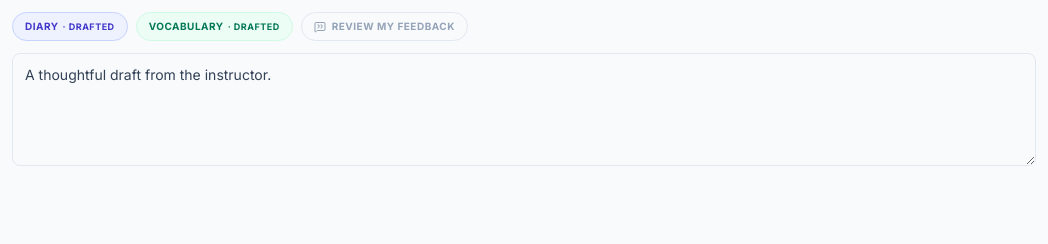
Test: AI review prerequisite recovery › reviews the latest draft after a slow save without overwriting edits
The width and height of the screenshot is (1048, 244).
Later steps or results of the test are not shown.
Click the button "Review my feedback" at (384, 26), box [301,12,468,41]
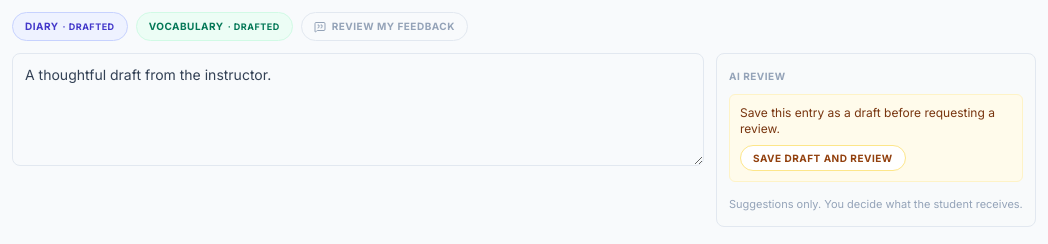
Now the button "Save draft and review" is shown, box [740,145,906,171]
